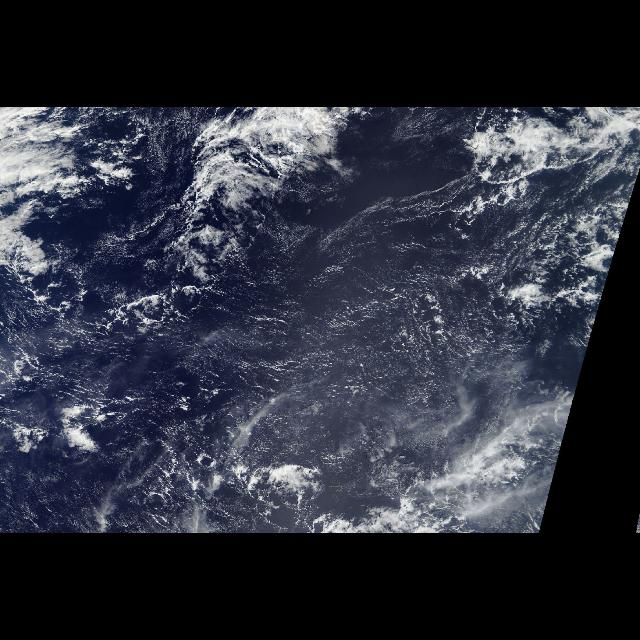Fish: (146, 116, 497, 286)
Gravel: (76, 258, 574, 506)
Sugar: (266, 174, 540, 456)
